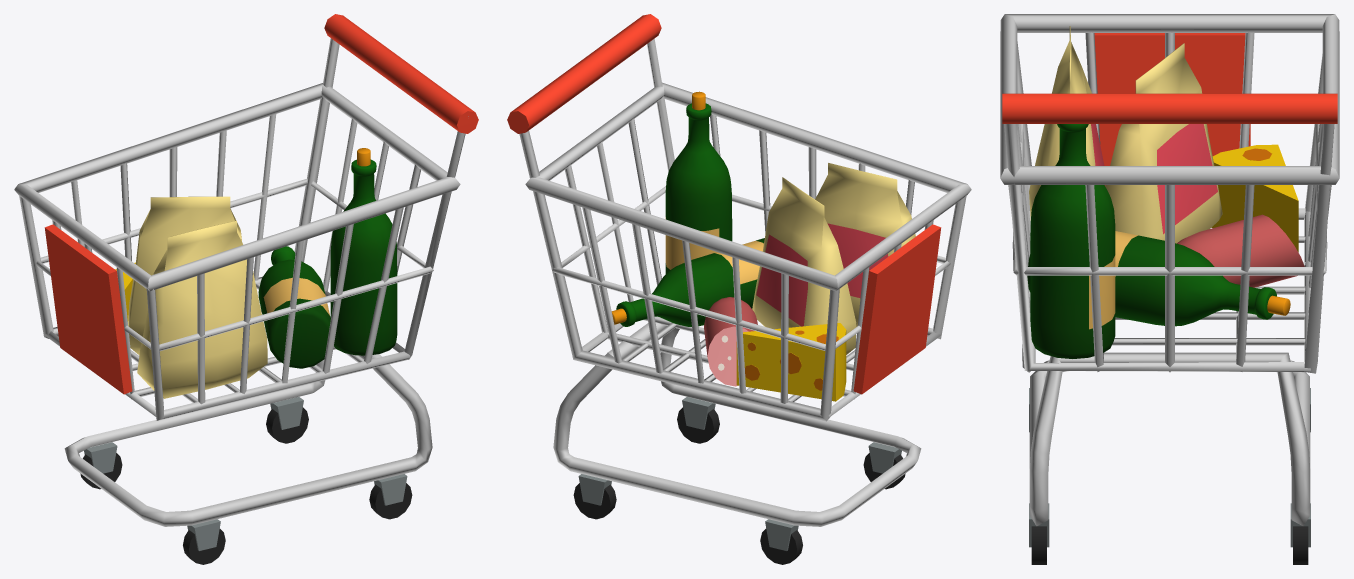
File: FoodBasket.fbx
3 views of the same model, side by side, from view 1: azimuth 30°, elevation 25°; view 2: azimuth 150°, elevation 25°; view 3: azimuth 270°, elevation 25° (orthographic). The views are drawn at different scales.
Parts seen in each view (by area): view 1: FoodBasket; view 2: FoodBasket; view 3: FoodBasket.
Part boxes in pixels (box(x1,y1,x2,y2)): FoodBasket: box(14, 14, 478, 564); FoodBasket: box(507, 14, 971, 564); FoodBasket: box(1000, 14, 1339, 564).
Bounding box in the file's own units: 250 × 285 × 173.
